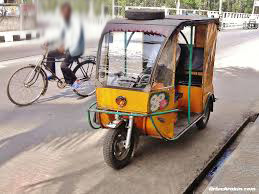bicycle: (7, 43, 95, 106)
easybike: (88, 15, 219, 169)
